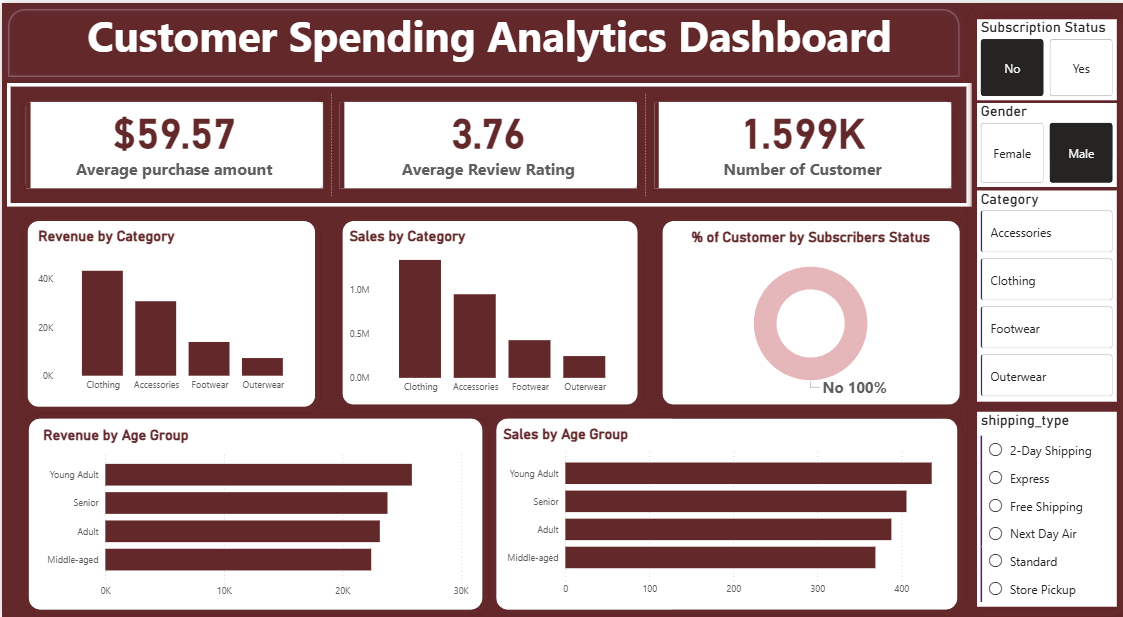

What the dashboard file says about the page in this screenshot:
{"tool":"powerbi","page":{"name":"Page 1","canvas":[1500,820],"ordinal":0},"visuals":[{"type":"cardVisual","fields":{"Data":["customer_behavior customer.Average purchase amount","customer_behavior customer.Average Review Rating","customer_behavior customer.Number of Customer"]},"box":[6.7,106.7,1286.7,165],"z":0},{"type":"shape","box":[0,0,1285,106.7],"z":1000},{"type":"textbox","box":[6.7,0,1286.7,106.7],"z":2000},{"type":"shape","box":[25.7,281.4,401.4,265.7],"z":3000},{"type":"shape","box":[871.4,281.4,414.3,262.9],"z":4000},{"type":"donutChart","title":"% of Customer by Subscribers Status","fields":{"Category":["customer_behavior customer.subscription_status"],"Y":["CountNonNull(customer_behavior customer.customer_id)"]},"box":[892.9,301.4,370,230],"z":5000},{"type":"shape","box":[444.3,281.4,411.4,262.9],"z":6000},{"type":"clusteredColumnChart","title":"Revenue by Category","fields":{"Y":["Sum(customer_behavior customer.purchase_amount)"],"Category":["customer_behavior customer.category"]},"box":[42.9,300,367.1,227.1],"z":7000},{"type":"clusteredColumnChart","title":"Sales by Category","fields":{"Y":["Sum(customer_behavior customer.customer_id)"],"Category":["customer_behavior customer.category"]},"box":[458.6,300,382.9,230],"z":8000},{"type":"shape","box":[1285.7,0,214.3,820],"z":9000},{"type":"advancedSlicerVisual","fields":{"Values":["customer_behavior customer.category"]},"box":[1300,250,186.7,281.7],"z":10000},{"type":"listSlicer","fields":{"Values":["customer_behavior customer.shipping_type"]},"box":[1300,545,186.7,260],"z":11000},{"type":"shape","box":[650,544.3,632.9,272.9],"z":12000},{"type":"clusteredBarChart","title":"Sales by Age Group","fields":{"Y":["CountNonNull(customer_behavior customer.customer_id)"],"Category":["customer_behavior customer.age_group"]},"box":[662.9,562.9,607.1,235.7],"z":13000},{"type":"shape","box":[27.1,544.3,622.9,272.9],"z":14000},{"type":"clusteredBarChart","title":"Revenue by Age Group","fields":{"Y":["Sum(customer_behavior customer.purchase_amount)"],"Category":["customer_behavior customer.age_group"]},"box":[50,564.3,577.1,237.1],"z":15000},{"type":"advancedSlicerVisual","title":"Gender","fields":{"Values":["customer_behavior customer.gender"]},"box":[1300,133.3,186.7,111.7],"z":16000},{"type":"advancedSlicerVisual","title":"Subscription Status","fields":{"Values":["customer_behavior customer.subscription_status"]},"box":[1300,21.7,186.7,108.3],"z":17000}]}

Visuals, with their boxes in screenshot pixels (x1, y1, x2, y2), scaled from the page's 1500x820 canvas onto the 1123x617 screenshot:
cardVisual - customer_behavior customer.Average purchase amount x customer_behavior customer.Average Review Rating: [5, 80, 968, 204]
shape: [0, 0, 962, 80]
textbox: [5, 0, 968, 80]
shape: [19, 212, 320, 412]
shape: [652, 212, 963, 410]
"% of Customer by Subscribers Status" donutChart: [668, 227, 945, 400]
shape: [333, 212, 641, 410]
"Revenue by Category" clusteredColumnChart: [32, 226, 307, 397]
"Sales by Category" clusteredColumnChart: [343, 226, 630, 399]
shape: [963, 0, 1122, 616]
advancedSlicerVisual - customer_behavior customer.category: [973, 188, 1113, 400]
listSlicer - customer_behavior customer.shipping_type: [973, 410, 1113, 606]
shape: [487, 410, 960, 615]
"Sales by Age Group" clusteredBarChart: [496, 424, 951, 601]
shape: [20, 410, 487, 615]
"Revenue by Age Group" clusteredBarChart: [37, 425, 469, 603]
"Gender" advancedSlicerVisual: [973, 100, 1113, 184]
"Subscription Status" advancedSlicerVisual: [973, 16, 1113, 98]
